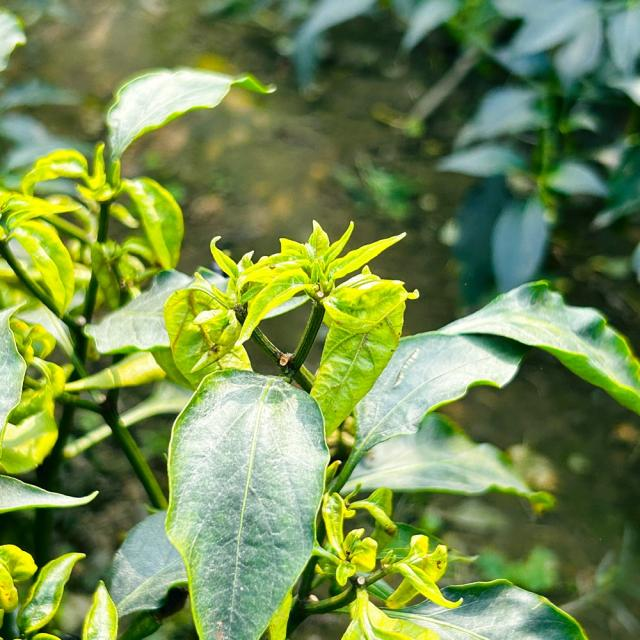Chilli_Leaf_Curl: (0, 64, 638, 638), (330, 278, 638, 504), (163, 218, 419, 437), (163, 367, 330, 639), (103, 65, 277, 163)
